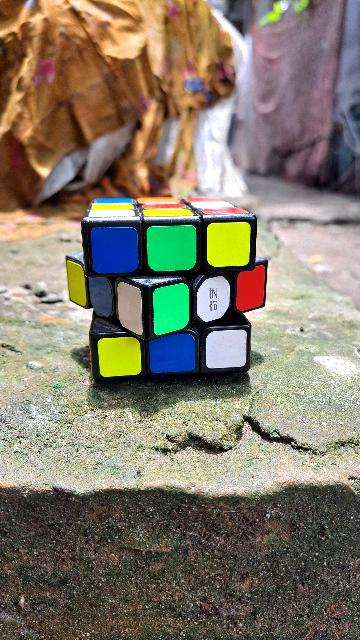hardplastic: (86, 175, 261, 392)
